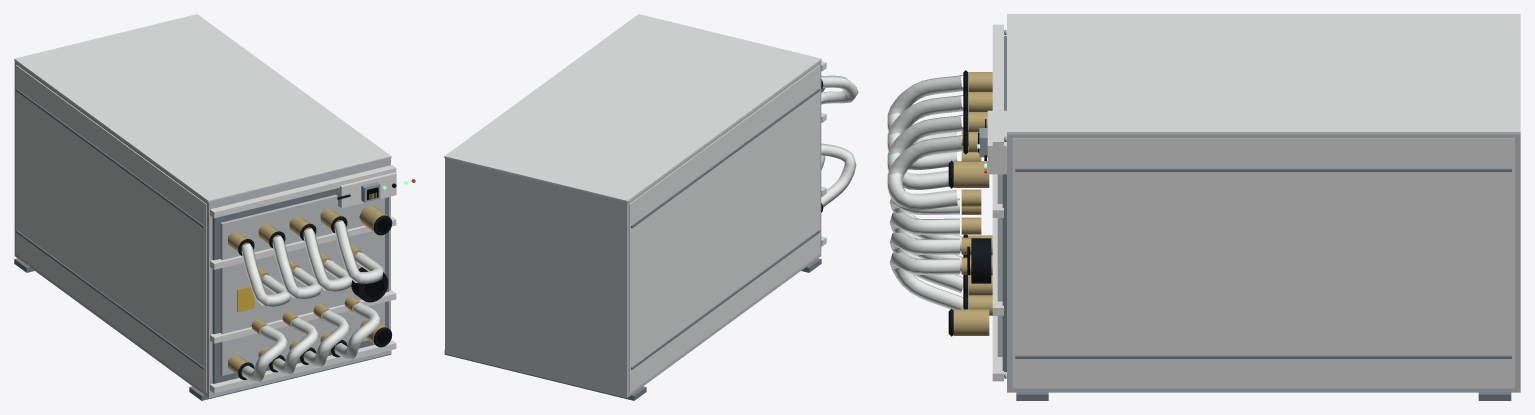
The model's file is antminer-s19-pro-plus-hydro.glb.
The picture shows the model from 3 angles, left to right: view 1: azimuth 30°, elevation 25°; view 2: azimuth 150°, elevation 25°; view 3: azimuth 270°, elevation 25°; orthographic projection. The views are drawn at different scales.
Visible parts, largest first — view 1: housing_light, housing_silver, housing_hose, housing_edge, housing_brass, housing_black, housing_port, housing_yellow; view 2: housing_light, housing_silver, housing_edge, housing_hose; view 3: housing_light, housing_hose, housing_silver, housing_brass, housing_edge, housing_black.
Boxes of the visible parts, left/top/right/bottom form: housing_light: left=14, top=14, right=396, bottom=393; housing_silver: left=14, top=61, right=390, bottom=397; housing_hose: left=241, top=221, right=383, bottom=381; housing_edge: left=14, top=88, right=391, bottom=400; housing_brass: left=228, top=192, right=387, bottom=374; housing_black: left=238, top=183, right=396, bottom=379; housing_port: left=365, top=187, right=389, bottom=344; housing_yellow: left=237, top=286, right=254, bottom=312; housing_light: left=444, top=14, right=826, bottom=392; housing_silver: left=445, top=61, right=821, bottom=397; housing_edge: left=444, top=88, right=821, bottom=400; housing_hose: left=821, top=75, right=858, bottom=207; housing_light: left=987, top=14, right=1520, bottom=388; housing_hose: left=887, top=75, right=963, bottom=309; housing_silver: left=997, top=134, right=1520, bottom=392; housing_brass: left=953, top=72, right=997, bottom=335; housing_edge: left=1002, top=36, right=1511, bottom=400; housing_black: left=948, top=31, right=1004, bottom=376.
Size of the model in its own units: 0.2173 by 0.2075 by 0.4462.
